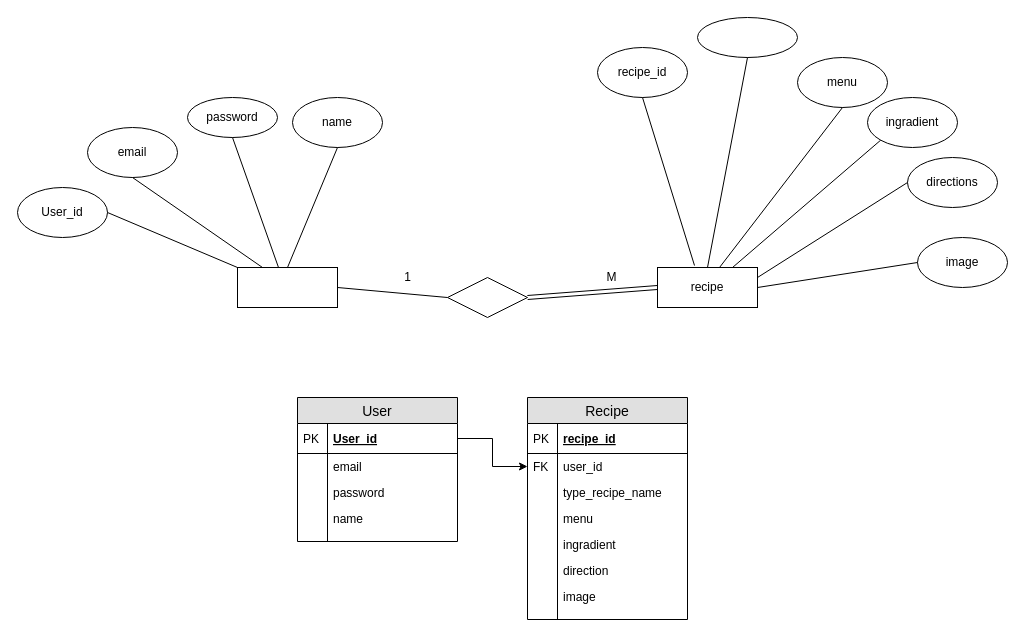
The diagram is 1025 pixels wide and 637 high, and some of its shapes have lost their labels. The centre of each missing label's shape, as x and y in pixels:
"owns" goes at (487,297).
"register" goes at (287,287).
"type recipe" goes at (747,37).
